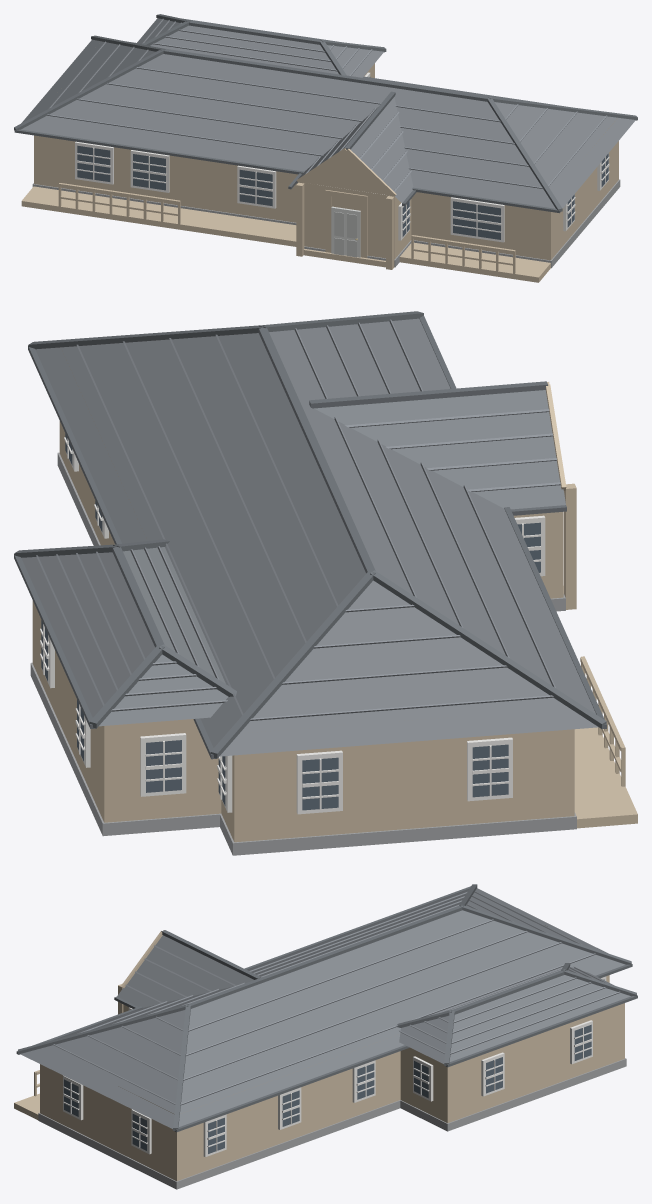
3 renders of one model, top to bottom at view 1: azimuth 30°, elevation 25°; view 2: azimuth 150°, elevation 25°; view 3: azimuth 270°, elevation 25°, orthographic. The views are drawn at different scales.
Parts seen in each view (by area): view 1: slate, larch, slate_dk, slate_lt, frame, plinth, window_glass_004, window_glass_003, window_glass_001, window_glass_002, door_cad_p, door_cad; view 2: slate, larch, slate_dk, slate_lt, plinth, frame, window_glass_009, window_glass_010, window_glass_012; view 3: slate, larch, slate_dk, slate_lt, plinth, frame, window_glass_018, window_glass_014, window_glass_017, window_glass_013, window_glass_016.
Boxes of the visible parts, x1,y1,x2,y2 form: slate: (21,18,635,208); larch: (21,63,618,282); slate_dk: (14,14,637,213); slate_lt: (47,18,606,191); frame: (75,72,609,242); plinth: (32,179,620,268); window_glass_004: (453,201,500,239); window_glass_003: (239,169,272,206); window_glass_001: (77,145,110,181); window_glass_002: (133,154,165,190); door_cad_p: (334,212,356,257); door_cad: (331,206,360,257); slate: (21,318,598,756); larch: (32,360,637,842); slate_dk: (14,311,606,759); slate_lt: (36,319,560,720); plinth: (30,452,576,855); frame: (40,437,545,814); window_glass_009: (302,757,338,810); window_glass_010: (472,744,508,797); window_glass_012: (146,740,181,792); slate: (20,888,630,1128); larch: (14,925,624,1181); slate_dk: (16,884,637,1132); slate_lt: (53,891,620,1105); plinth: (38,1058,626,1189); frame: (63,976,606,1157); window_glass_018: (357,1063,374,1099); window_glass_014: (574,1024,591,1060); window_glass_017: (282,1090,299,1126); window_glass_013: (486,1057,502,1093); window_glass_016: (208,1117,224,1153).
Bounding box in the file's own units: 20.87 × 4.75 × 22.23.
